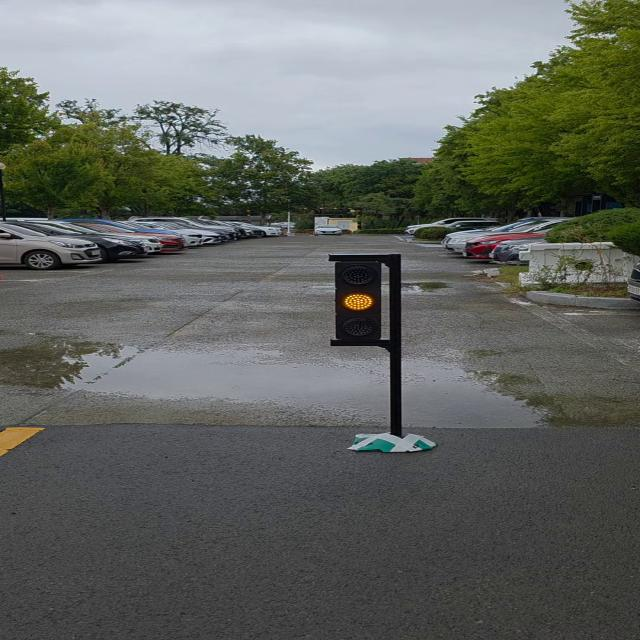yellow: (332, 258, 385, 349)
